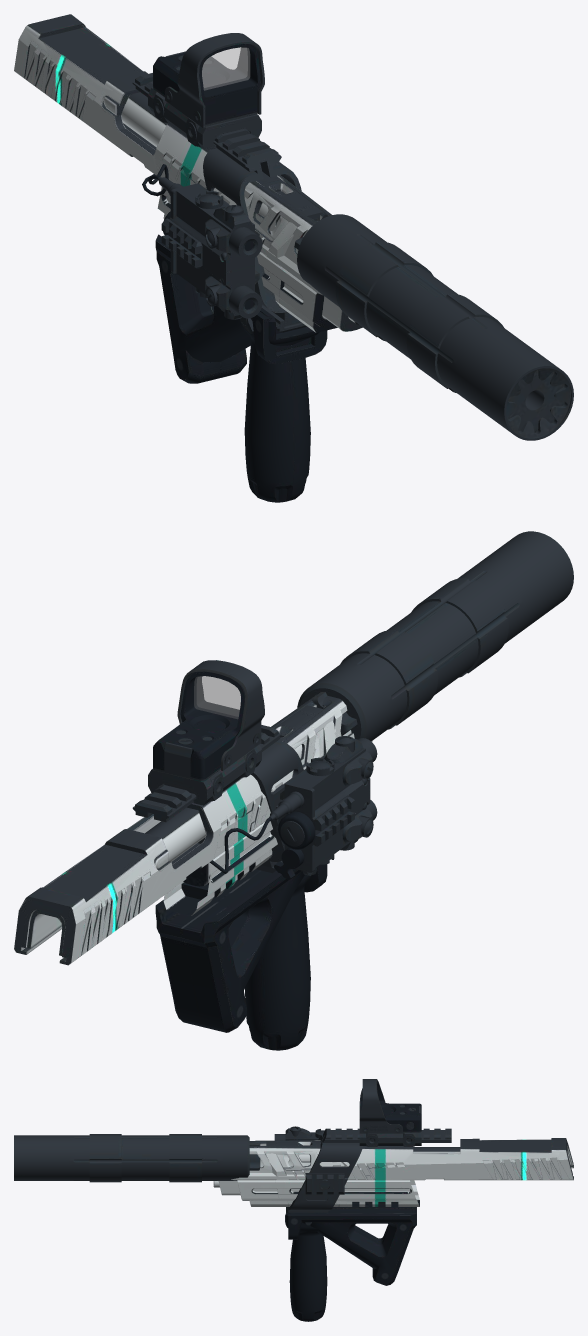
The model's file is Pistol.glb.
3 views of the same model, one above another, from view 1: azimuth 30°, elevation 25°; view 2: azimuth 150°, elevation 25°; view 3: azimuth 270°, elevation 25° (orthographic). The views are drawn at different scales.
Parts seen in each view (by area): view 1: SM_Silencer, SM_Scope_Small, SM_Laser, SM_Grip_Vertical, SM_Grip_Angled_Short, SM_Pistol_Slide_Short, SM_Pistol_Slide_Extended, SM_Pistol_Rail, SM_Pistol_Slide_Default, SM_Pistol_Barrel_Extended, SM_Pistol_Barrel_Short, SM_Pistol_Barrel_Default; view 2: SM_Silencer, SM_Grip_Angled_Short, SM_Scope_Small, SM_Laser, SM_Pistol_Slide_Short, SM_Grip_Vertical, SM_Pistol_Slide_Extended, SM_Pistol_Slide_Default, SM_Pistol_Rail, SM_Pistol_Barrel_Short, SM_Pistol_Barrel_Default, SM_Pistol_Barrel_Extended; view 3: SM_Silencer, SM_Grip_Angled_Short, SM_Pistol_Slide_Extended, SM_Pistol_Slide_Default, SM_Pistol_Rail, SM_Grip_Vertical, SM_Scope_Small, SM_Pistol_Slide_Short, SM_Pistol_Barrel_Extended, SM_Pistol_Barrel_Default, SM_Pistol_Barrel_Short, SM_Laser.
Boxes of the visible parts, x1,y1,x2,y2 form: SM_Silencer: [294, 214, 573, 440]; SM_Scope_Small: [148, 33, 264, 150]; SM_Laser: [142, 164, 262, 319]; SM_Grip_Vertical: [240, 308, 319, 502]; SM_Grip_Angled_Short: [155, 234, 327, 383]; SM_Pistol_Slide_Short: [14, 15, 280, 212]; SM_Pistol_Slide_Extended: [15, 14, 362, 331]; SM_Pistol_Rail: [132, 73, 306, 332]; SM_Pistol_Slide_Default: [24, 24, 323, 266]; SM_Pistol_Barrel_Extended: [121, 115, 358, 332]; SM_Pistol_Barrel_Short: [122, 92, 284, 209]; SM_Pistol_Barrel_Default: [121, 114, 318, 307]; SM_Silencer: [297, 531, 573, 741]; SM_Grip_Angled_Short: [155, 864, 327, 1032]; SM_Scope_Small: [148, 660, 264, 805]; SM_Laser: [209, 736, 377, 879]; SM_Pistol_Slide_Short: [14, 770, 293, 965]; SM_Grip_Vertical: [245, 867, 316, 1050]; SM_Pistol_Slide_Extended: [22, 695, 372, 963]; SM_Pistol_Slide_Default: [20, 705, 335, 961]; SM_Pistol_Rail: [132, 725, 303, 873]; SM_Pistol_Barrel_Short: [58, 807, 274, 921]; SM_Pistol_Barrel_Default: [168, 737, 301, 913]; SM_Pistol_Barrel_Extended: [166, 821, 275, 915]; SM_Silencer: [14, 1134, 260, 1182]; SM_Grip_Angled_Short: [288, 1202, 416, 1285]; SM_Pistol_Slide_Extended: [218, 1138, 573, 1195]; SM_Pistol_Slide_Default: [266, 1141, 573, 1180]; SM_Pistol_Rail: [288, 1128, 451, 1212]; SM_Grip_Vertical: [285, 1207, 328, 1321]; SM_Scope_Small: [359, 1079, 421, 1146]; SM_Pistol_Slide_Short: [315, 1138, 573, 1179]; SM_Pistol_Barrel_Extended: [213, 1180, 419, 1206]; SM_Pistol_Barrel_Default: [275, 1154, 419, 1206]; SM_Pistol_Barrel_Short: [336, 1147, 460, 1206]; SM_Laser: [274, 1126, 325, 1140].
Size of the model in its own units: 5.62 by 18.03 by 39.06.
14 materials, 12 textured.
